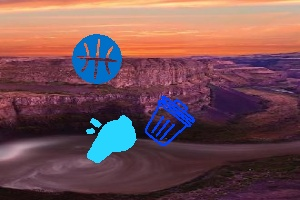垃圾桶: (146, 95, 194, 144)
玩具头: (82, 116, 137, 162)
篮球: (70, 33, 124, 81)
